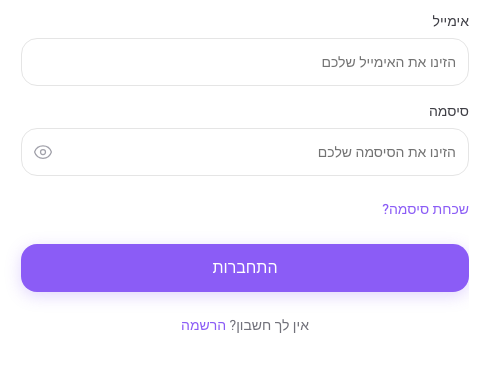
Test: LoginForm › Form Validation (Hebrew Messages) › shows Hebrew error for invalid email format
Type "invalid-email" into the field labelled "אימייל".
click(245, 62); type("invalid-email")  # box [21,38,469,86]
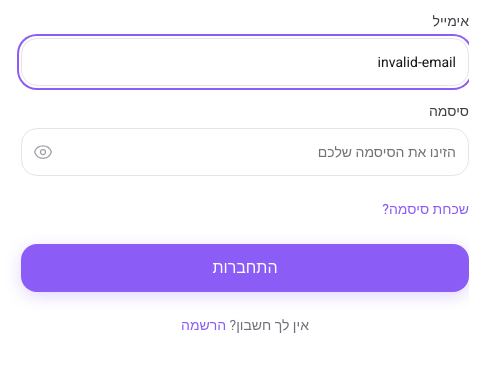
Type "password123" into the password field with placeholder "הזינו את הסיסמה שלכם".
click(245, 152); type("password123")  # box [21,128,469,176]
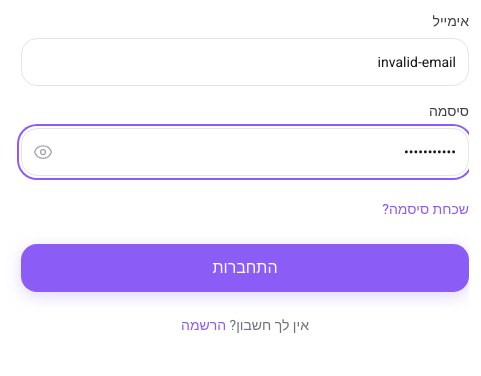
Click the button "התחברות".
click(245, 268)  # box [21,244,469,292]
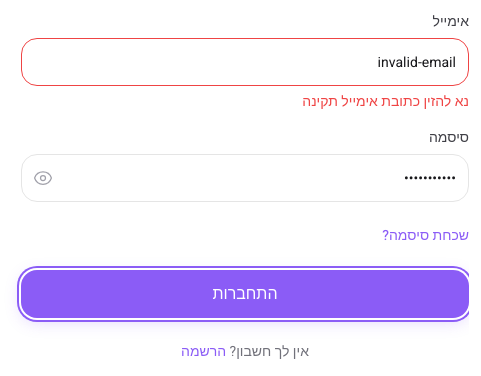
expect the text "נא להזין כתובת אימייל תקינה" is shown: met, box [302,91,469,112]
